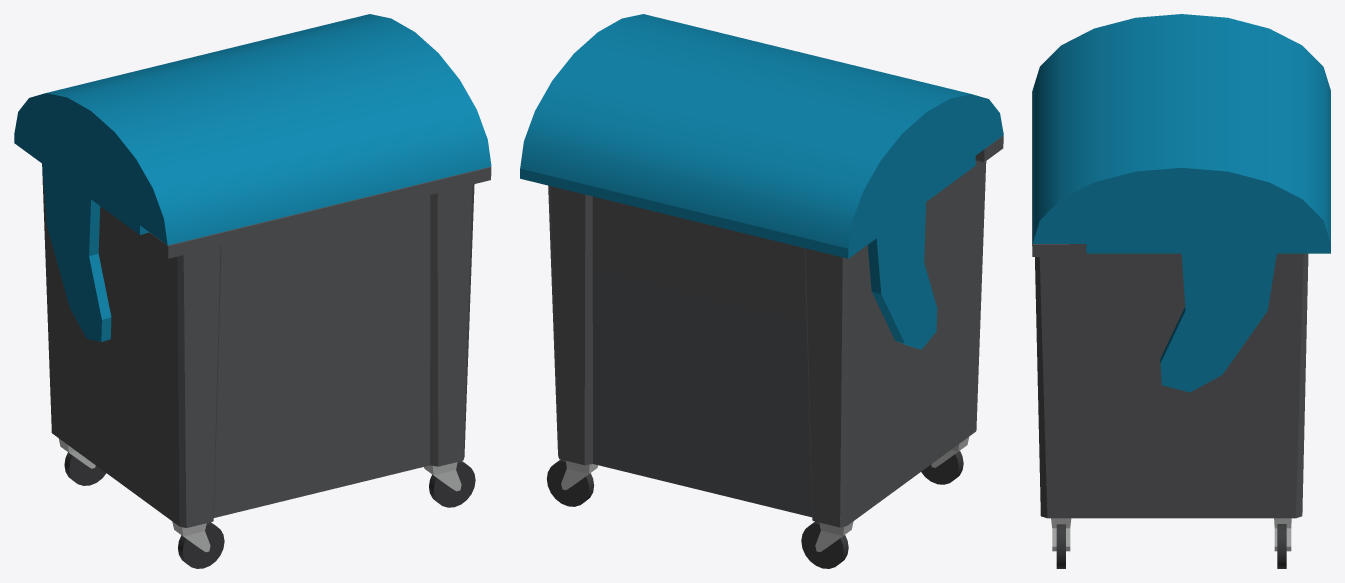
Rendered from M_Sem4_Prop_TonneGeschlossen_FHaufe.fbx.
The picture shows the model from 3 angles, left to right: view 1: azimuth 30°, elevation 25°; view 2: azimuth 150°, elevation 25°; view 3: azimuth 270°, elevation 25°; orthographic projection. The views are drawn at different scales.
Parts seen in each view (by area): view 1: pCylinder7; view 2: pCylinder7; view 3: pCylinder7.
Boxes of the visible parts, x1,y1,x2,y2 form: pCylinder7: (14, 14, 491, 568); pCylinder7: (520, 14, 1003, 568); pCylinder7: (1032, 14, 1330, 568).
Bounding box in the file's own units: 155 × 192 × 127.
